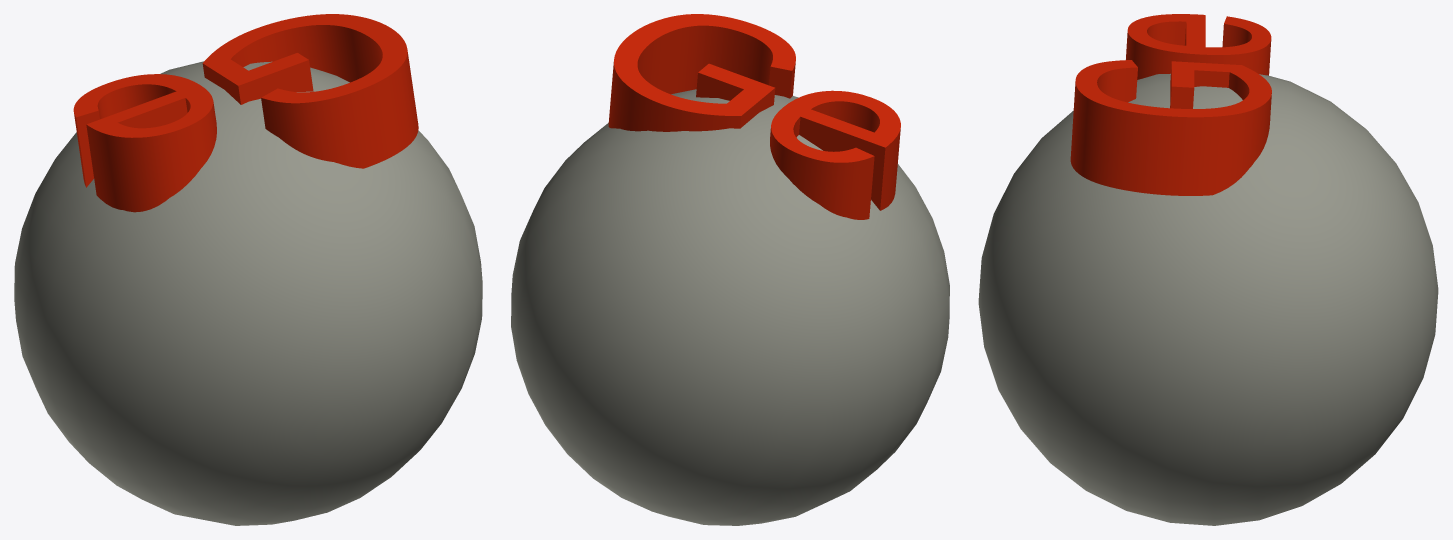
3 renders of one model, left to right at view 1: azimuth 30°, elevation 25°; view 2: azimuth 150°, elevation 25°; view 3: azimuth 270°, elevation 25°, orthographic. The views are drawn at different scales.
Visible parts, largest first — view 1: Ge; view 2: Ge; view 3: Ge.
Part boxes in pixels (bbox=[...]): Ge: bbox=[14, 14, 482, 525]; Ge: bbox=[511, 14, 949, 525]; Ge: bbox=[978, 14, 1438, 525].
Bounding box in the file's own units: 38.58 × 41.68 × 38.74.
